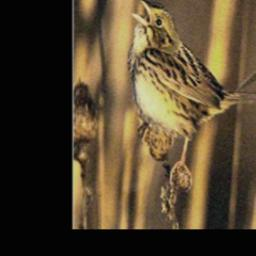Sparrow: (129, 0, 256, 190)
